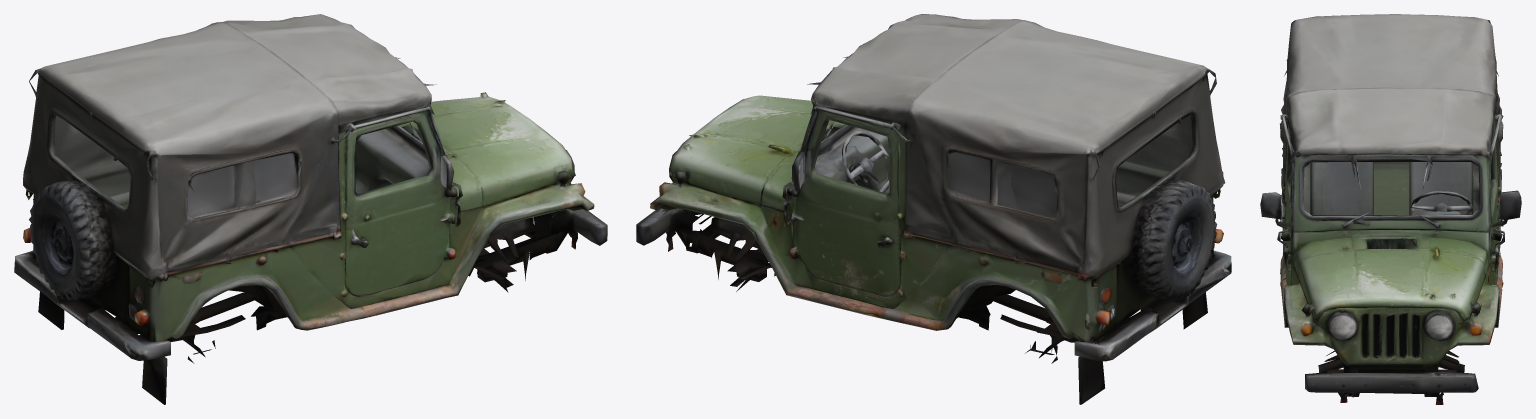
File: car_uaz_body.glb
3 renders of one model, left to right at view 1: azimuth 30°, elevation 25°; view 2: azimuth 150°, elevation 25°; view 3: azimuth 270°, elevation 25°, orthographic. The views are drawn at different scales.
Visible parts, largest first — view 1: tripo_node_5dd58dd1-d4c6-4eb9-a4eb-6c572e14e794; view 2: tripo_node_5dd58dd1-d4c6-4eb9-a4eb-6c572e14e794; view 3: tripo_node_5dd58dd1-d4c6-4eb9-a4eb-6c572e14e794.
Boxes of the visible parts, x1,y1,x2,y2 form: tripo_node_5dd58dd1-d4c6-4eb9-a4eb-6c572e14e794: (14,14,607,404); tripo_node_5dd58dd1-d4c6-4eb9-a4eb-6c572e14e794: (636,14,1231,404); tripo_node_5dd58dd1-d4c6-4eb9-a4eb-6c572e14e794: (1260,14,1521,404).
Bounding box in the file's own units: 0.9766 × 0.4833 × 0.5125.
Materials: 1 (1 with a texture image).
